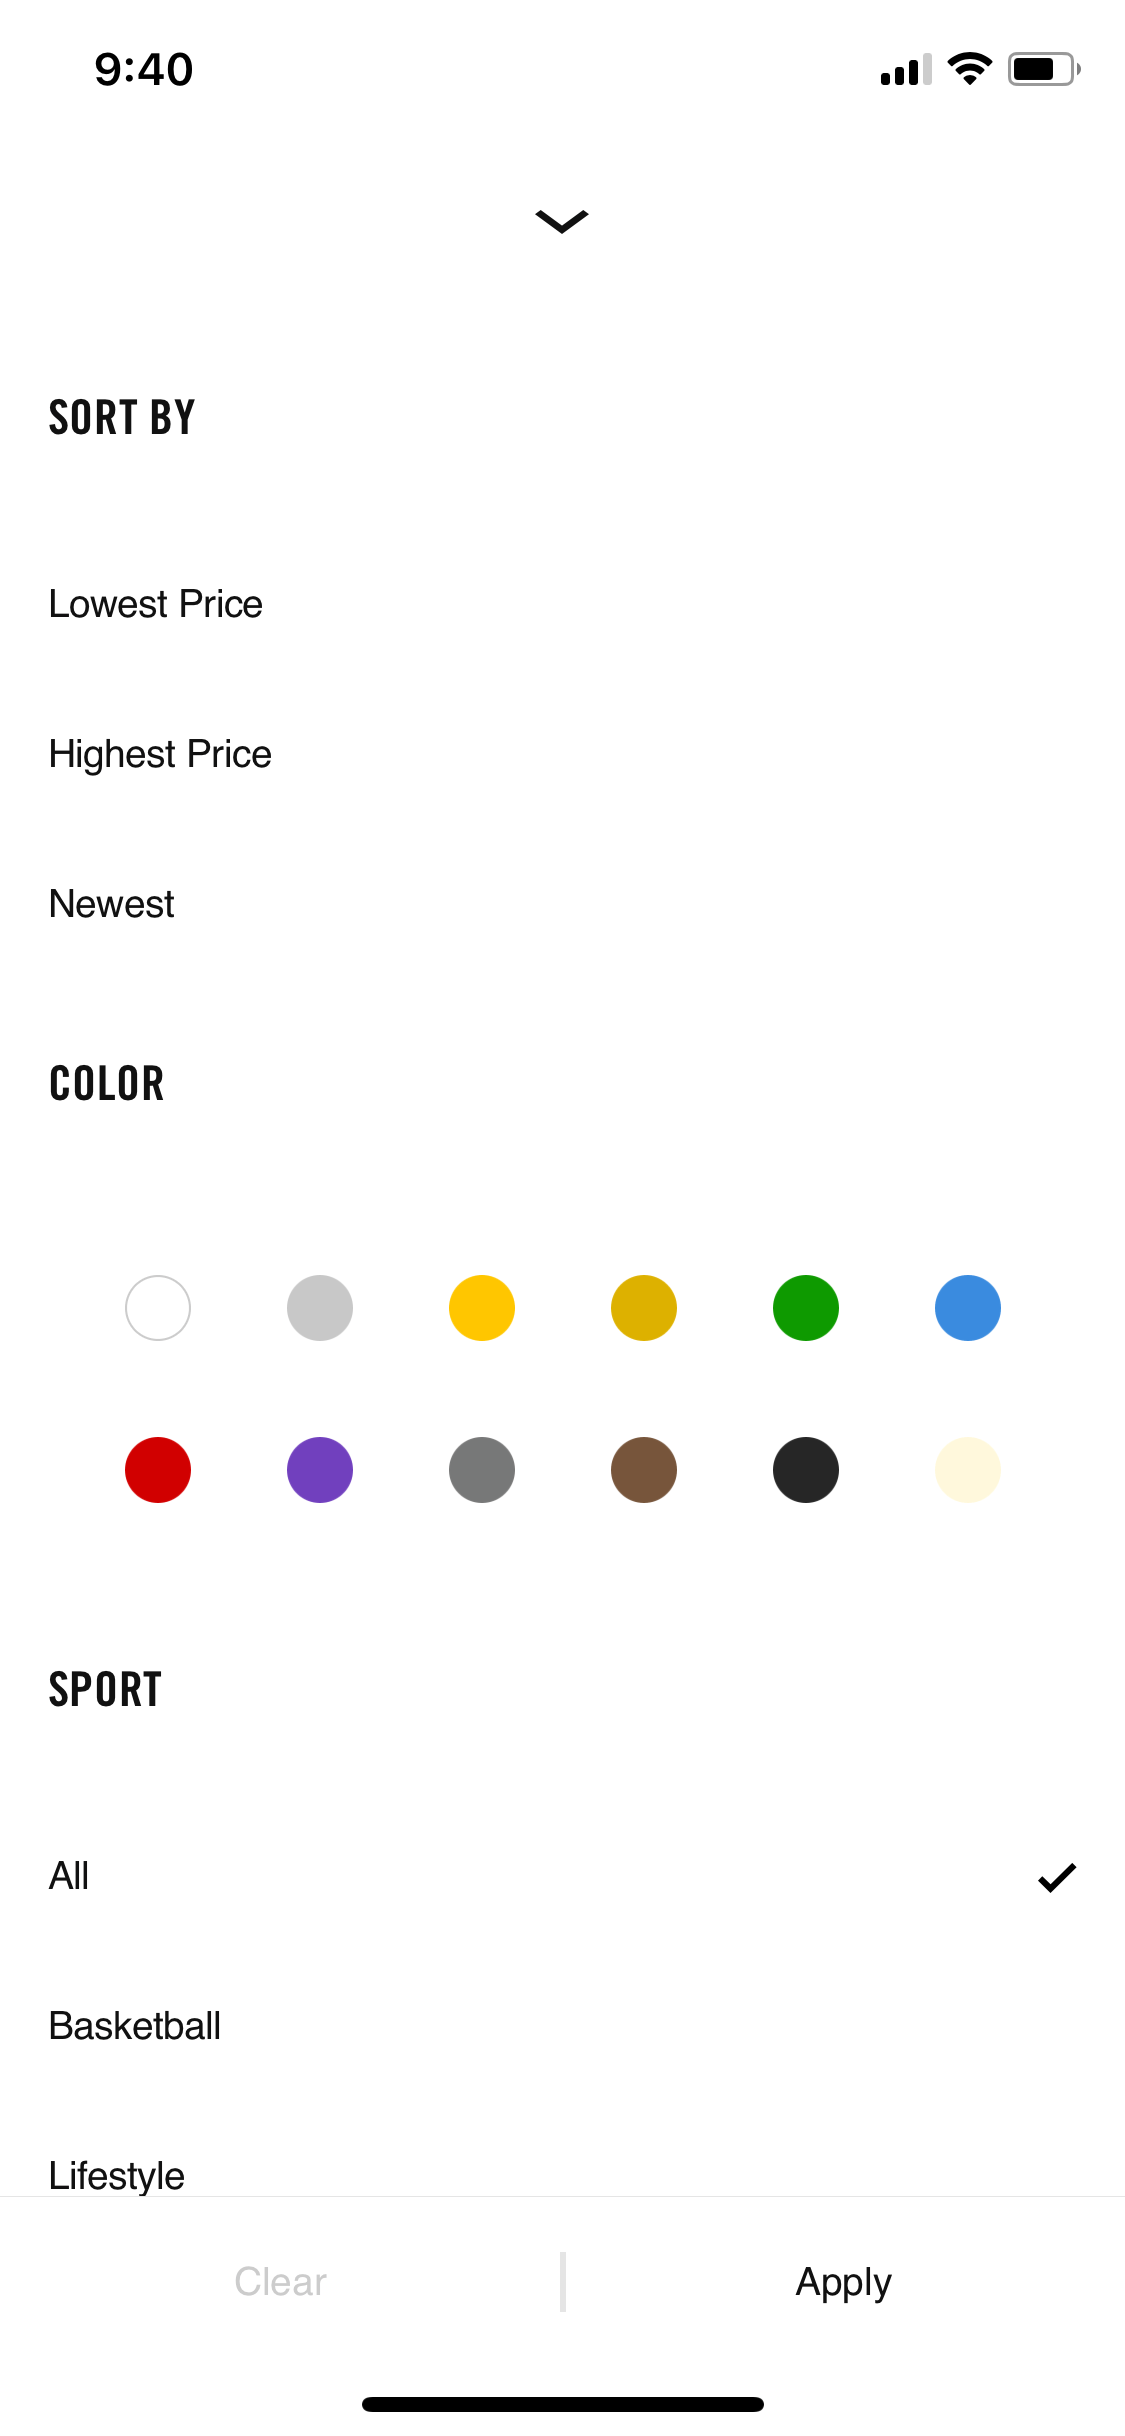Buttons: (573, 2208, 1102, 2347), (28, 2208, 550, 2344)
Radio buttons: (2, 1815, 1125, 1947)
